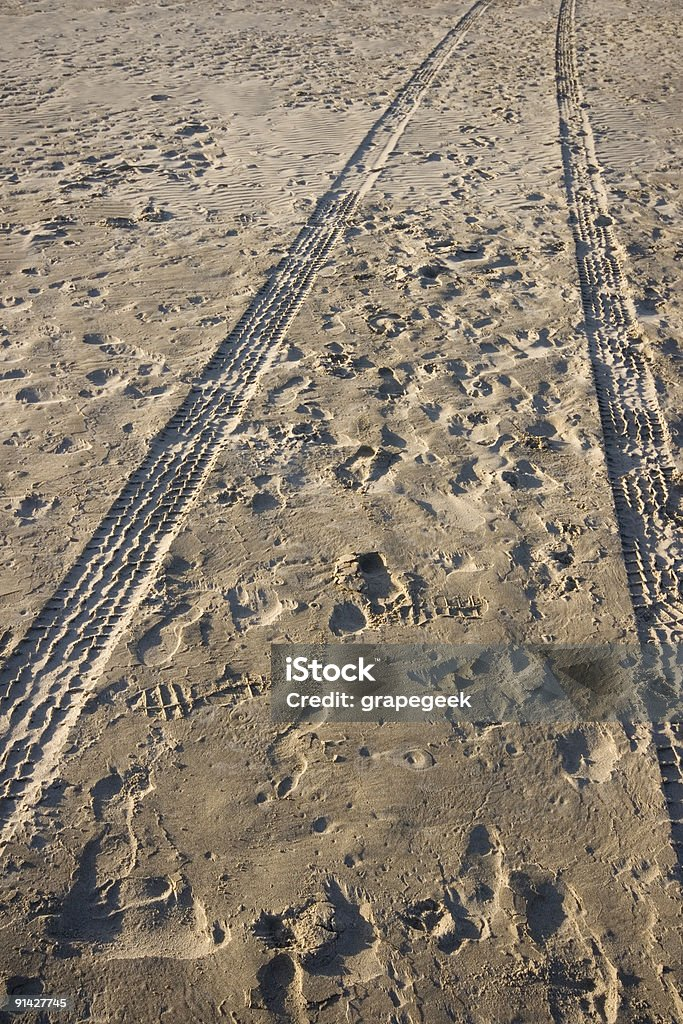human_footprint: (0, 0, 488, 843), (556, 0, 682, 659), (530, 898, 641, 997), (328, 412, 418, 492), (332, 890, 390, 994), (462, 823, 514, 929), (542, 733, 632, 790), (368, 548, 418, 620)
